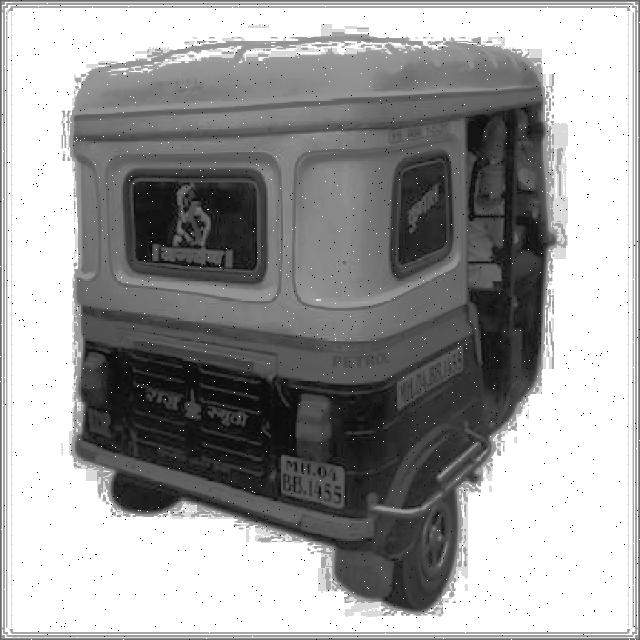Auto-Rickshaw: (60, 28, 555, 615)
